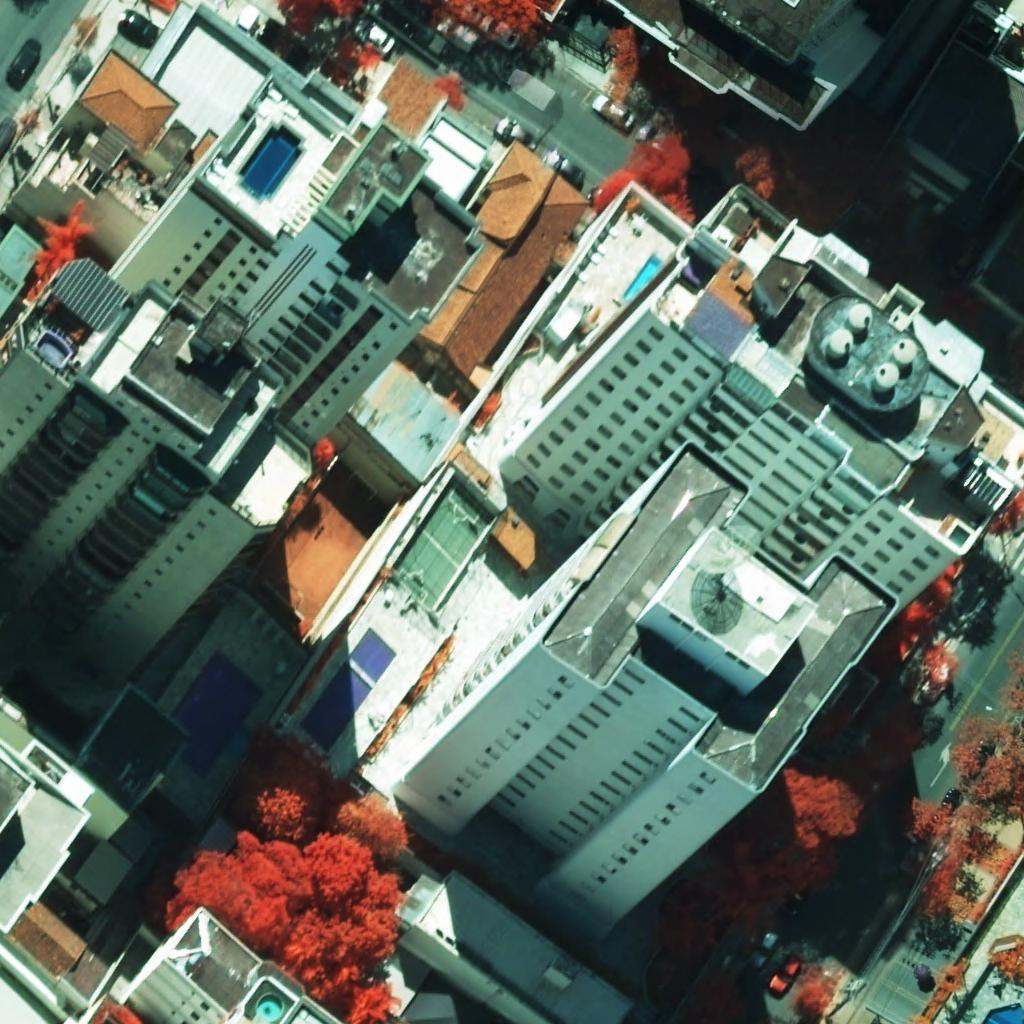pool: (300, 628, 397, 752), (170, 651, 263, 778), (239, 125, 301, 199), (623, 254, 662, 301), (257, 995, 282, 1020)
